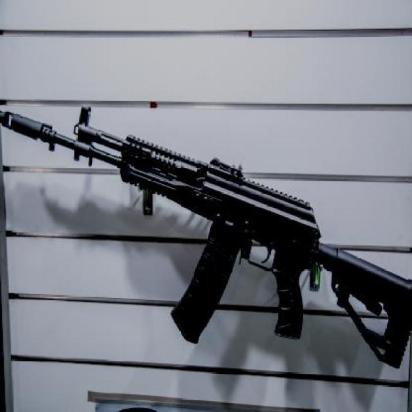Gun: (2, 82, 412, 382)
